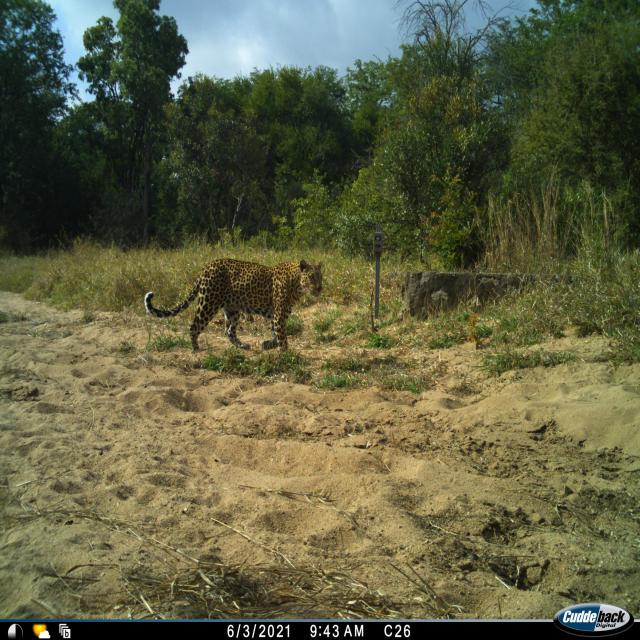Leopard: (150, 251, 321, 362)
